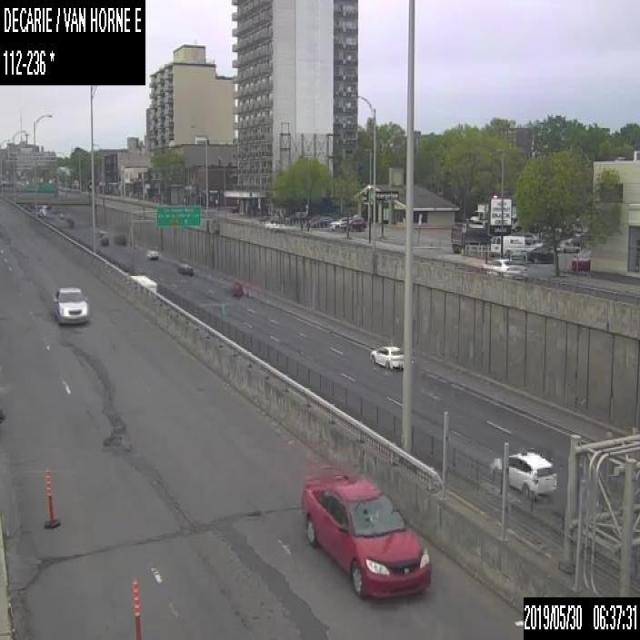construction: (43, 467, 59, 528), (131, 576, 140, 639)
vehicle: (301, 468, 431, 600), (490, 448, 556, 499), (469, 196, 512, 233), (51, 285, 88, 324), (449, 221, 493, 252), (482, 256, 524, 277), (490, 234, 526, 258), (368, 343, 401, 368), (526, 244, 558, 264), (130, 273, 158, 294), (571, 250, 589, 270), (556, 238, 580, 252), (174, 258, 193, 275), (342, 217, 366, 230), (224, 280, 242, 297), (329, 216, 351, 229), (285, 210, 305, 224), (312, 215, 334, 227), (523, 232, 538, 244), (113, 232, 126, 245), (145, 248, 159, 258), (64, 216, 74, 227), (99, 233, 109, 243)
